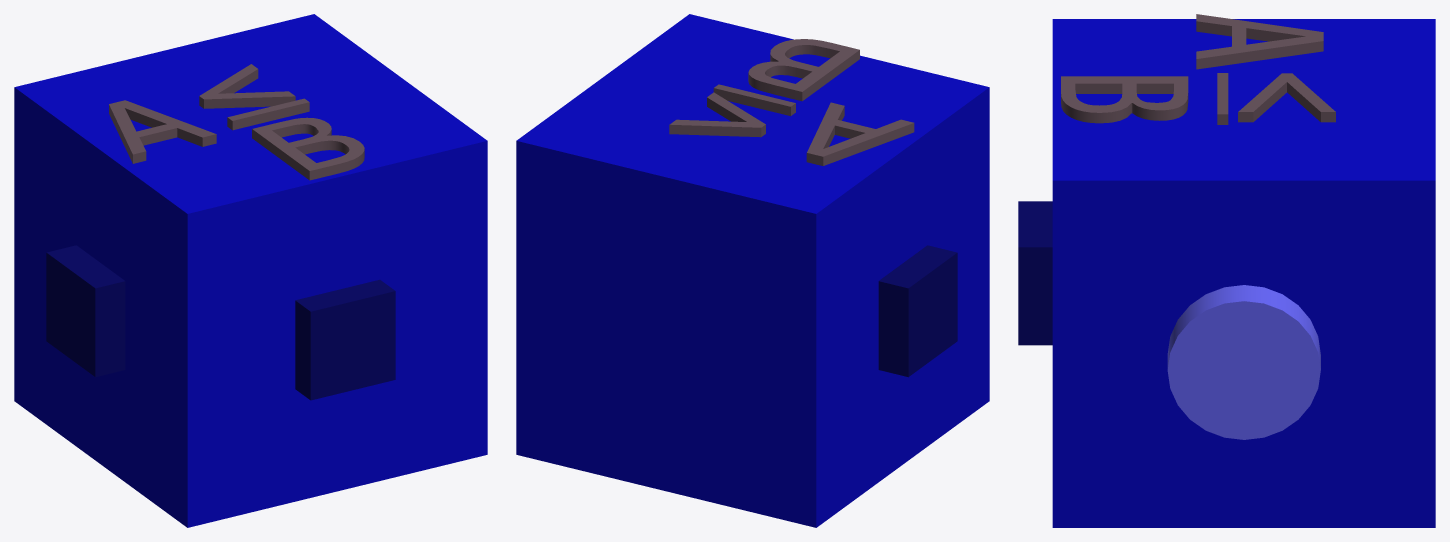
Rendered from LessThanOrEqual_Logic.dae.
The picture shows the model from 3 angles, left to right: view 1: azimuth 30°, elevation 25°; view 2: azimuth 150°, elevation 25°; view 3: azimuth 270°, elevation 25°; orthographic projection. The views are drawn at different scales.
Visible parts, largest first — view 1: SketchUp (×3), B, A, instance_0, instance_3; view 2: SketchUp (×2), B, A, instance_0, instance_3; view 3: SketchUp (×3), B (×2), A, instance_0, instance_3.
Boxes of the visible parts, x1,y1,x2,y2 form: SketchUp (×3): (14,14,487,527); B: (252,117,364,180); A: (109,100,216,163); instance_0: (199,64,295,108); instance_3: (227,98,309,130); SketchUp (×2): (516,14,989,527); B: (748,39,859,101); A: (806,102,914,165); instance_0: (669,92,765,137); instance_3: (713,84,795,116); SketchUp (×3): (1018,19,1435,527); B (×2): (1061,76,1188,123); A: (1196,14,1323,69); instance_0: (1238,73,1335,122); instance_3: (1217,73,1228,124).
Size of the model in its own units: 47.24 by 42.91 by 40.55.
